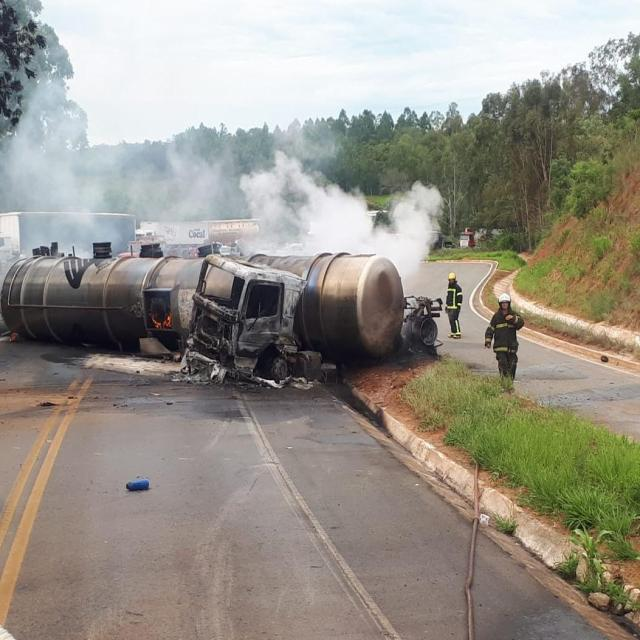Fire: (148, 314, 174, 328)
